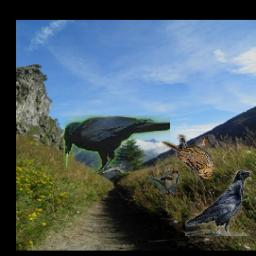Crow: (64, 115, 171, 173), (185, 169, 251, 236)
Sparrow: (162, 134, 216, 181), (149, 169, 179, 195)
